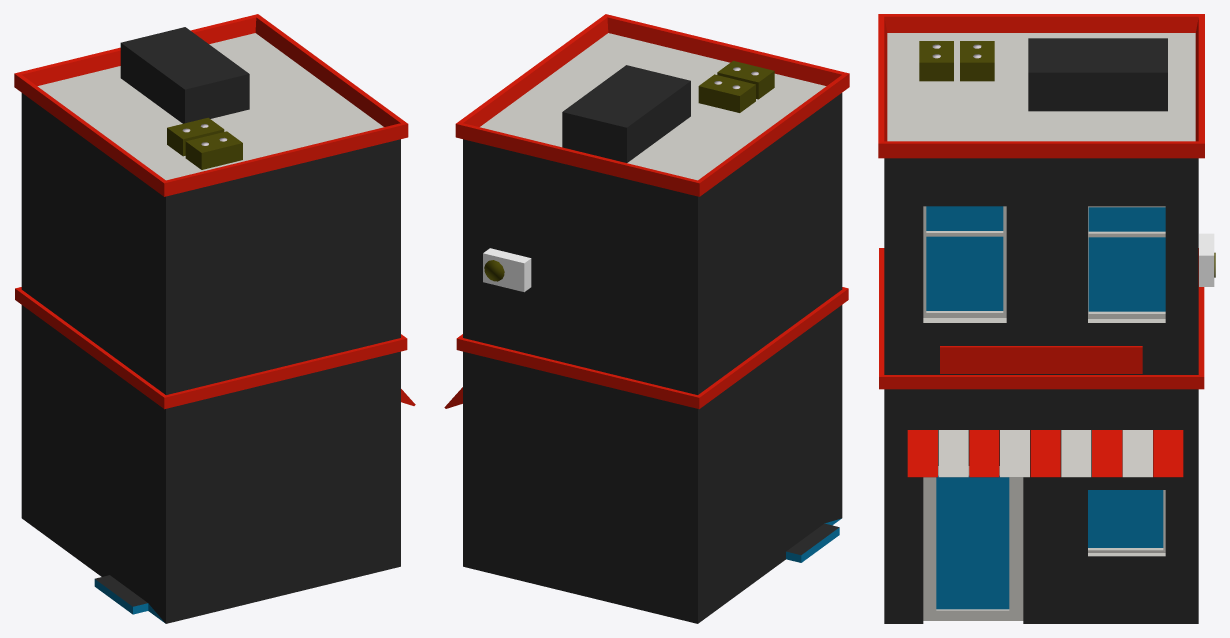
File: Shop1.fbx
3 views of the same model, side by side, from view 1: azimuth 30°, elevation 25°; view 2: azimuth 150°, elevation 25°; view 3: azimuth 270°, elevation 25° (orthographic). The views are drawn at different scales.
Parts seen in each view (by area): view 1: Shop1; view 2: Shop1; view 3: Shop1.
Boxes of the visible parts, <box> form: Shop1: <box>14,14,415,623</box>; Shop1: <box>444,14,849,623</box>; Shop1: <box>878,14,1215,623</box>.
Size of the model in its own units: 7.7 by 12.41 by 7.5.
